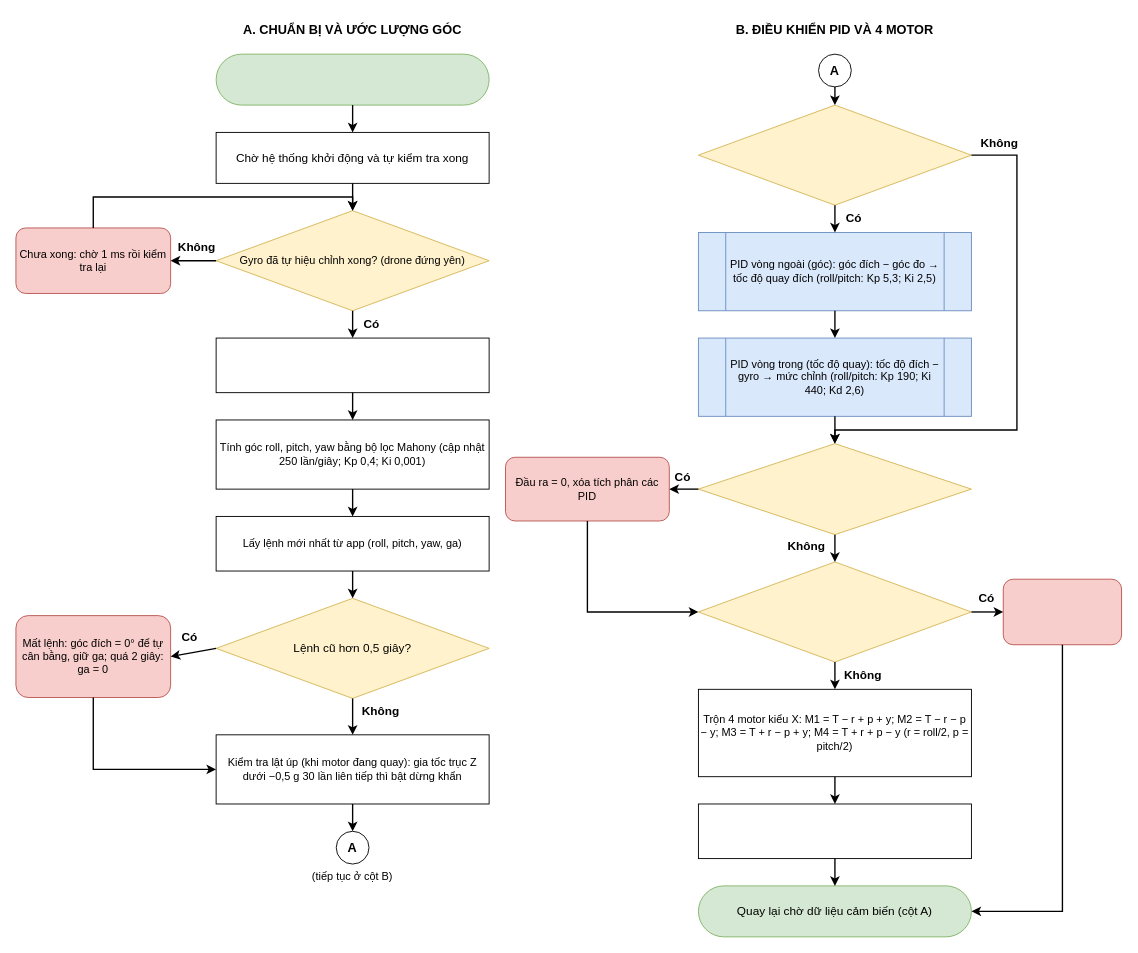
Image size: 1138x953. Some labels were removed from this diagram. The box of each missing label's shape, as (x1, y1, x2, y2) in pixels:
Bắt đầu tác vụ ổn định: (215, 53, 489, 105)
Chờ dữ liệu cảm biến mới (1000 lần/giây): (215, 337, 489, 393)
Dừng khẩn? (lật úp hoặc lệnh dừng): (698, 561, 971, 662)
Ga = 0?: (698, 443, 971, 535)
Tắt cả 4 motor: (1002, 578, 1122, 645)
Xuất PWM 15 kHz (8 bit) ra GPIO 7, 4, 3, 1: (698, 803, 971, 859)
Đến lượt tính PID? (500 lần/giây): (698, 104, 971, 205)
